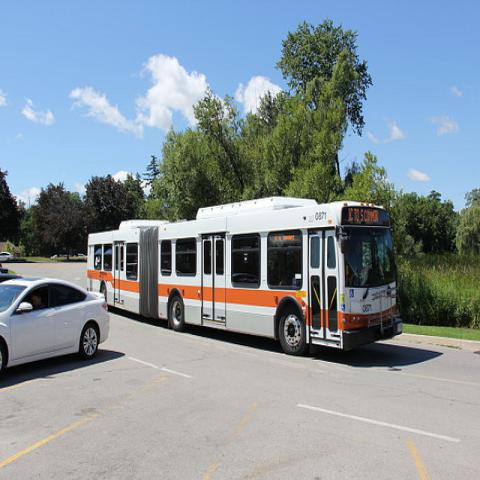bus: (87, 195, 407, 353)
car: (1, 274, 111, 378), (0, 252, 14, 262)
